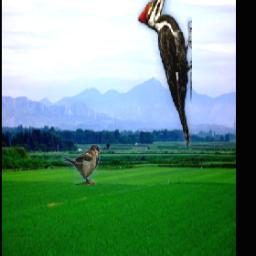Sparrow: (62, 145, 101, 186)
Woodpecker: (137, 0, 192, 155)
